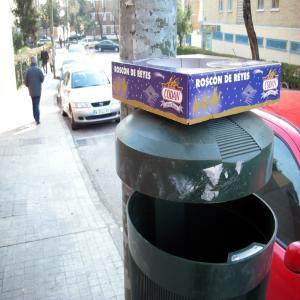Vehicle-registration-plate: (94, 108, 111, 117)
